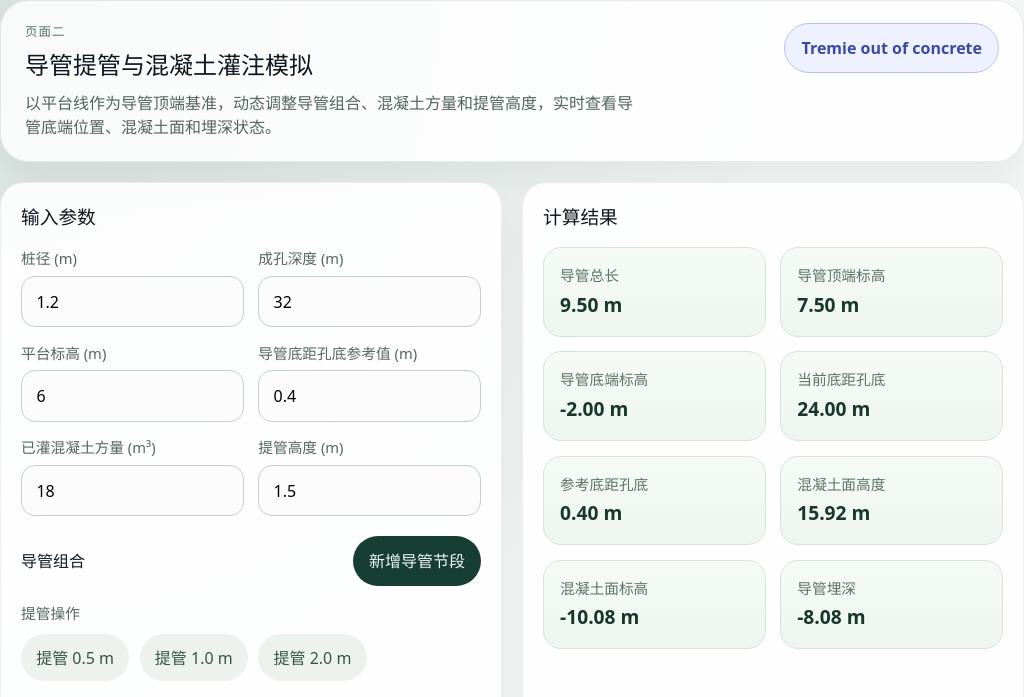
adds tremie segments and updates the displayed tremie length
This screenshot has width=1024, height=697.
Click the button "新增导管节段" at [417, 561], box [353,536,481,586]
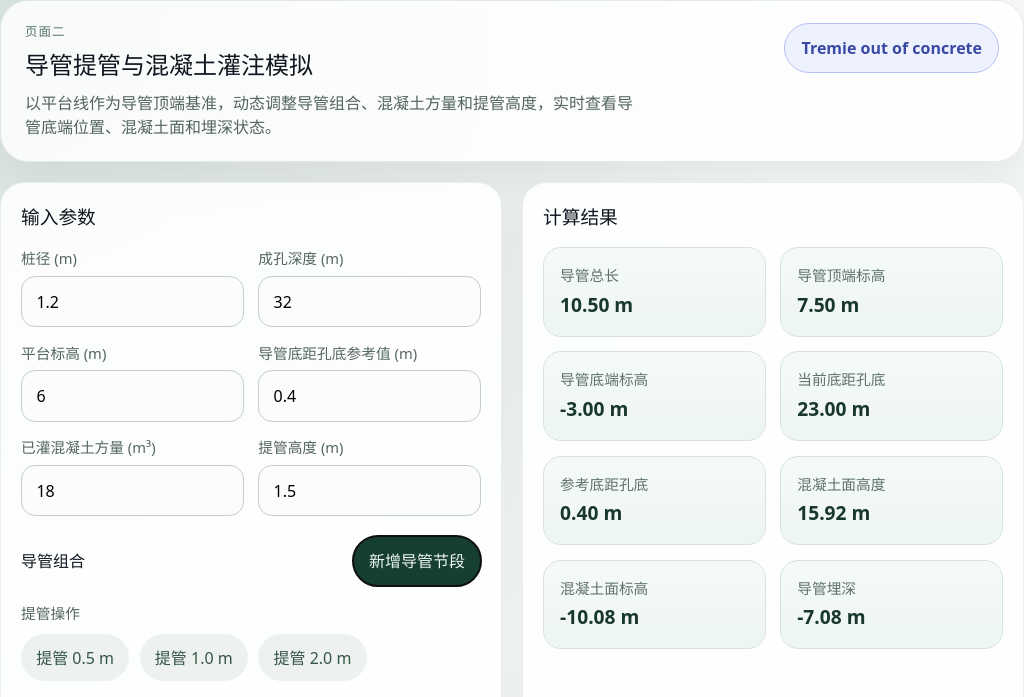
Now the text "10.50 m" is shown, box [560,291,633,318]
